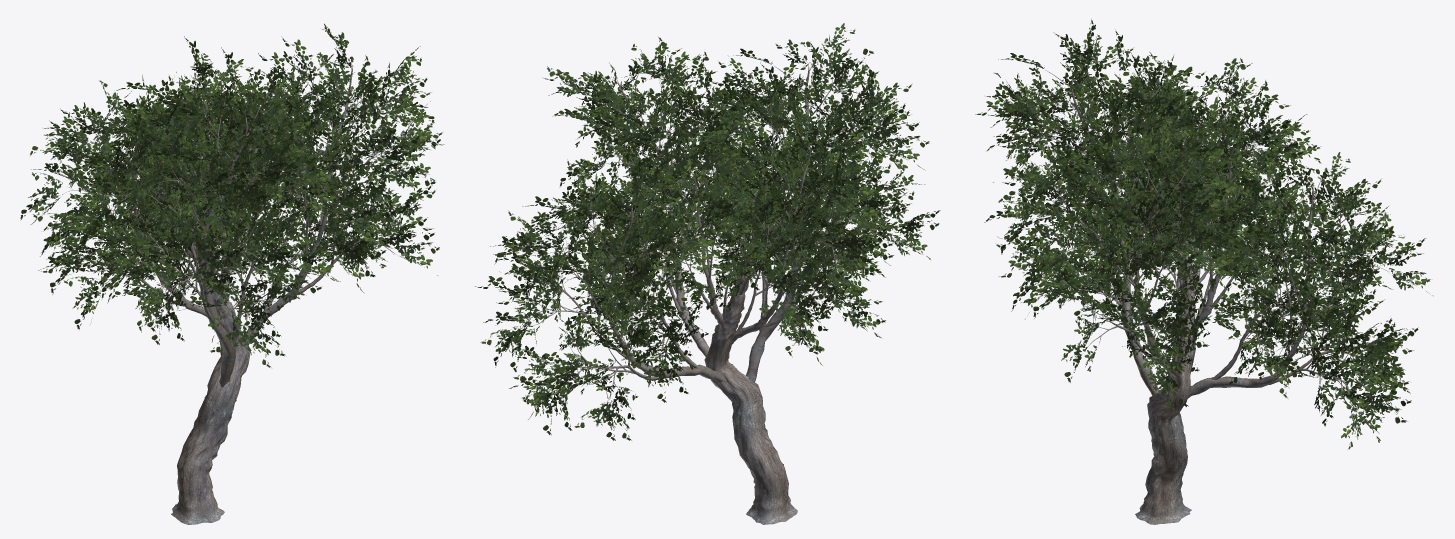
The model's file is MESH_WE17_QuercusAgrifolia_M_LOD0.fbx.
The picture shows the model from 3 angles, left to right: view 1: azimuth 30°, elevation 25°; view 2: azimuth 150°, elevation 25°; view 3: azimuth 270°, elevation 25°; orthographic projection. The views are drawn at different scales.
Parts seen in each view (by area): view 1: MI_LOD0_001, MI_LOD0; view 2: MI_LOD0_001, MI_LOD0; view 3: MI_LOD0_001, MI_LOD0.
Part boxes in pixels (x1,y1,x2,y2): MI_LOD0_001: (20, 23, 444, 367); MI_LOD0: (62, 52, 397, 524); MI_LOD0_001: (475, 23, 940, 440); MI_LOD0: (521, 47, 896, 524); MI_LOD0_001: (975, 19, 1433, 449); MI_LOD0: (1026, 64, 1389, 524).
Size of the model in its own units: 839 by 1000 by 881.
